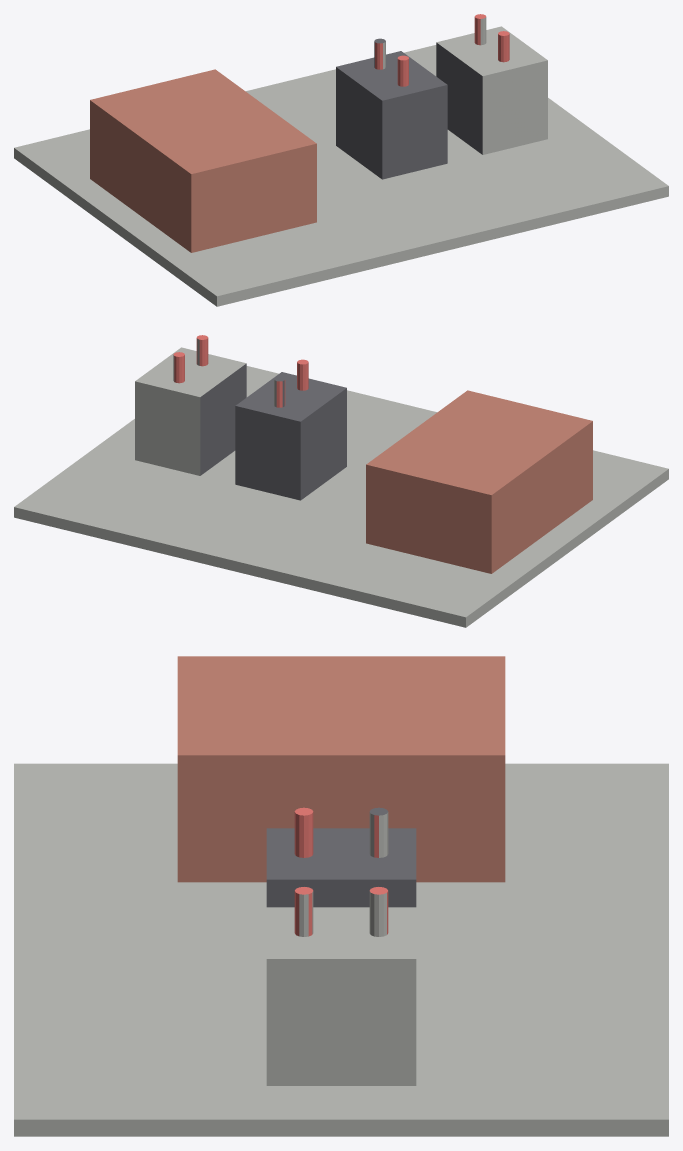
The model's file is electrical_substation_switchyard.glb.
The picture shows the model from 3 angles, top to bottom: view 1: azimuth 30°, elevation 25°; view 2: azimuth 150°, elevation 25°; view 3: azimuth 270°, elevation 25°; orthographic projection. The views are drawn at different scales.
Parts seen in each view (by area): view 1: electrical_substation_switchyard; view 2: electrical_substation_switchyard; view 3: electrical_substation_switchyard.
Boxes of the visible parts, left/top/right/bottom form: electrical_substation_switchyard: left=14, top=14, right=668, bottom=306; electrical_substation_switchyard: left=14, top=335, right=668, bottom=627; electrical_substation_switchyard: left=14, top=656, right=668, bottom=1136.
Size of the model in its own units: 18 by 4.4 by 14.
